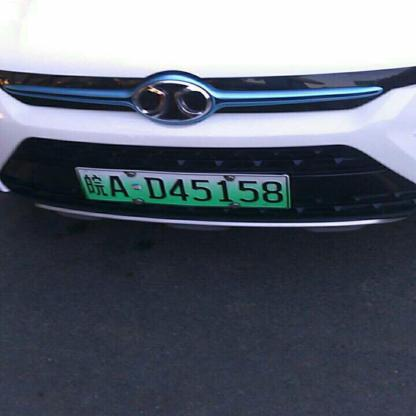lp: (76, 168, 288, 208)
